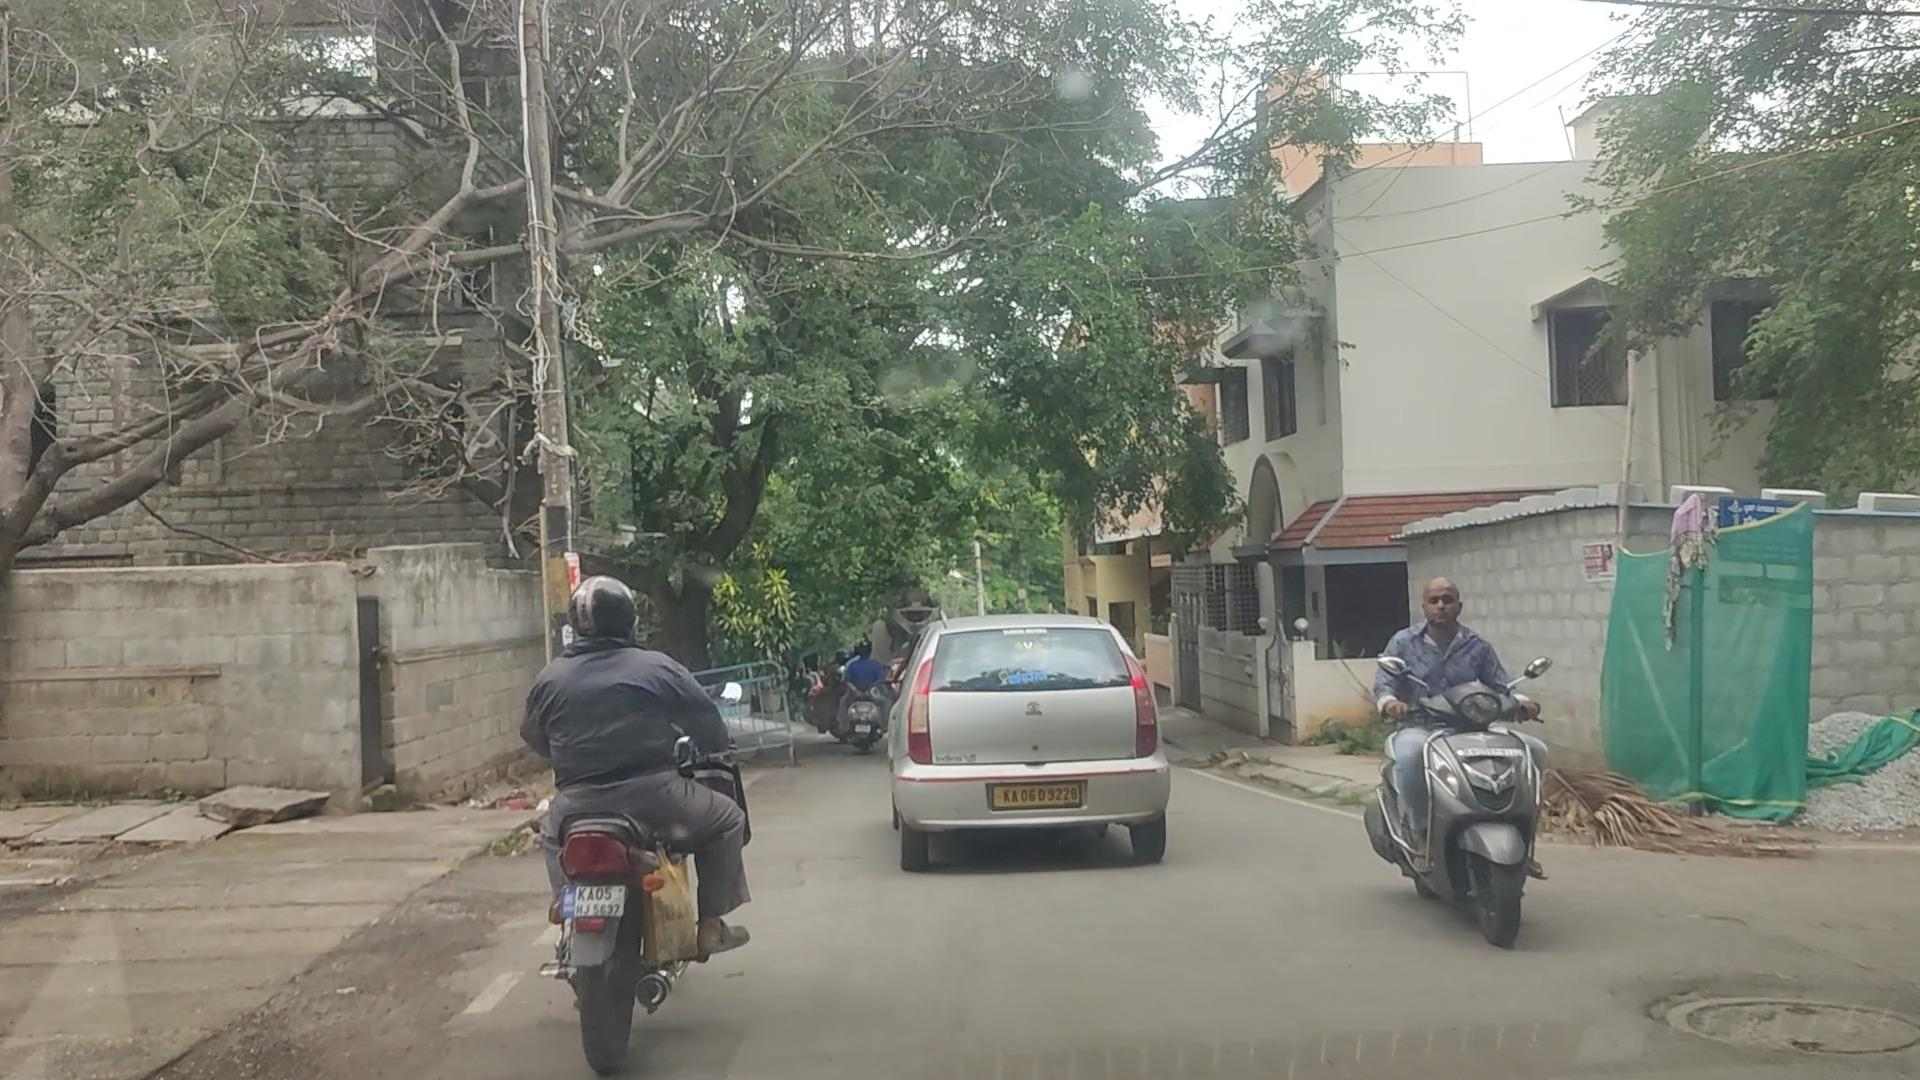LMV: (504, 574, 721, 1042), (876, 604, 1200, 897), (1377, 584, 1544, 927)
RoadDamages: (1598, 943, 1919, 1080)
